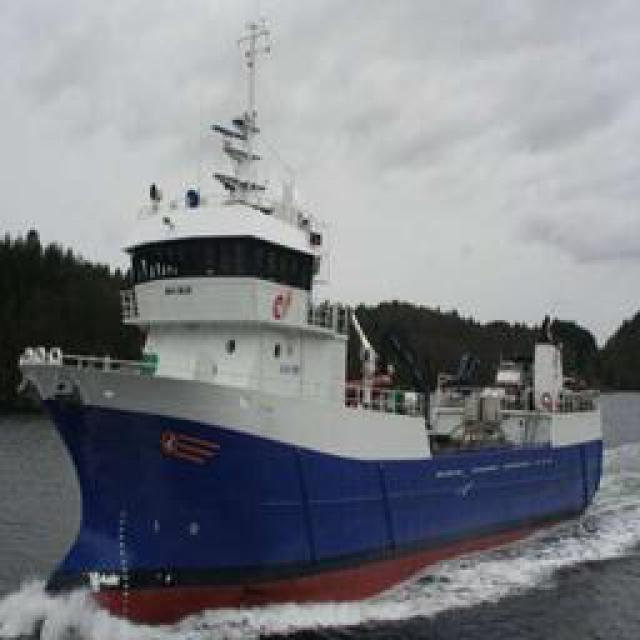Ship: (4, 56, 609, 629)
